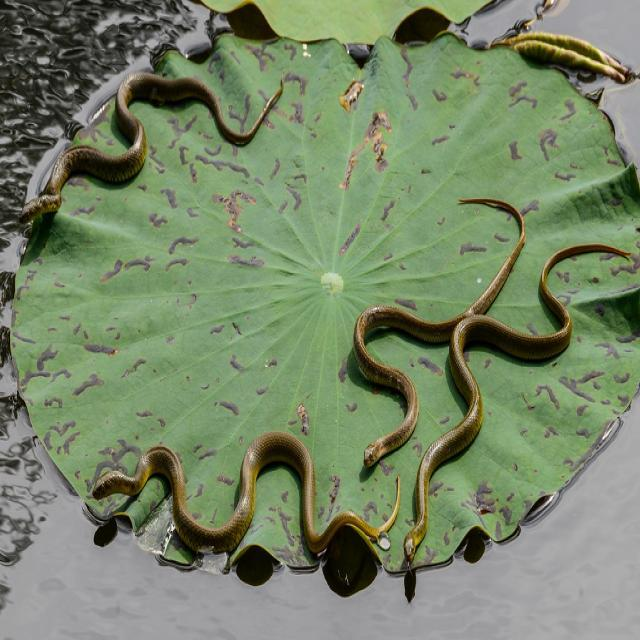Snake: (18, 66, 284, 225)
